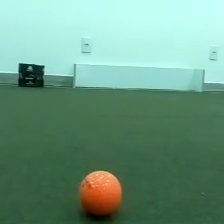ball: (76, 167, 124, 219)
goal: (70, 61, 206, 94)
robot: (15, 61, 47, 89)
